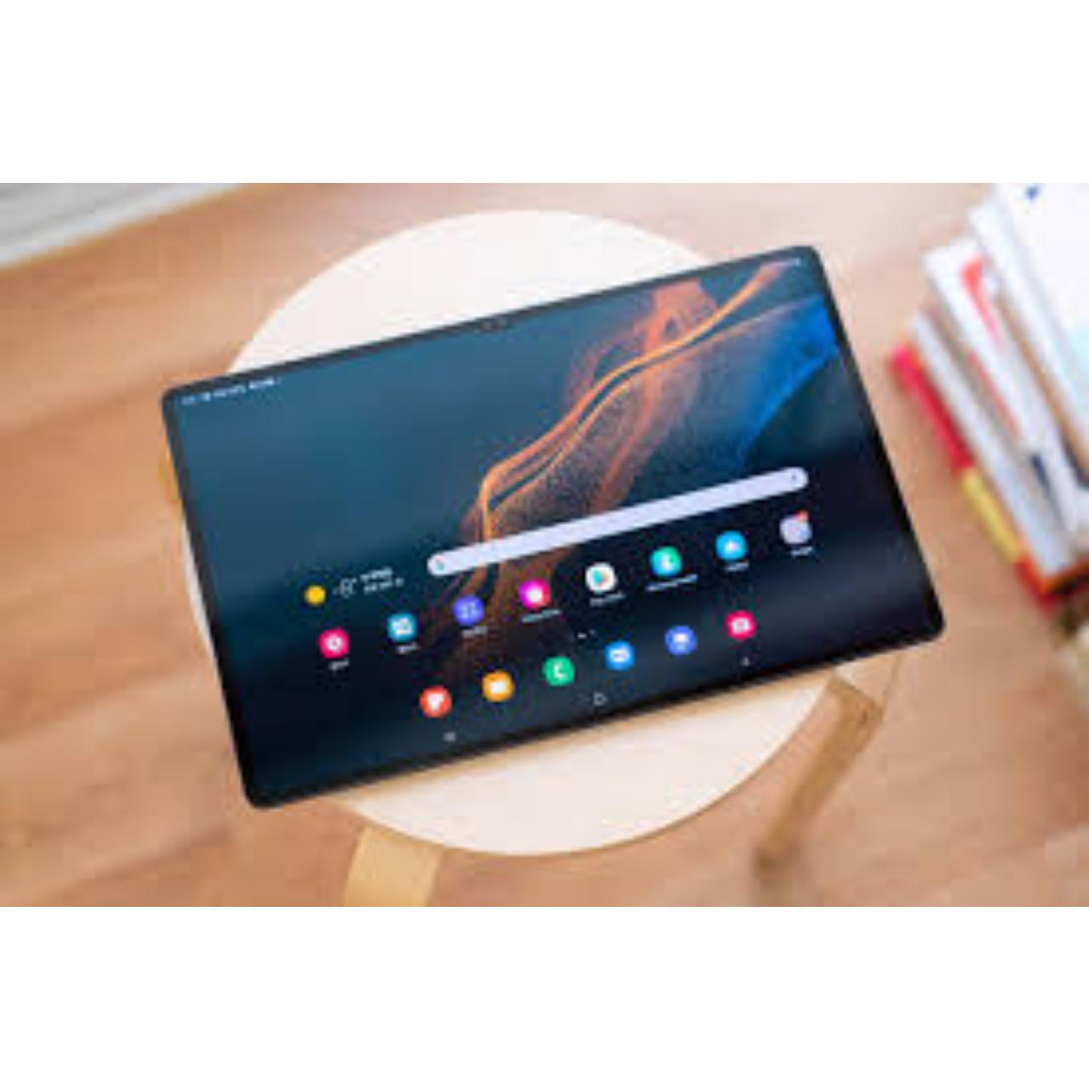Tablet_PC: (158, 238, 952, 817)
